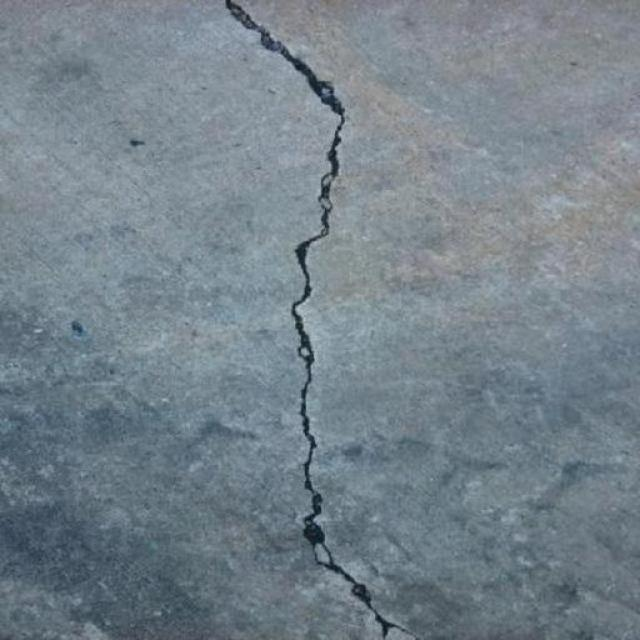Crack: (287, 119, 347, 552), (224, 1, 348, 115), (312, 547, 421, 637)
